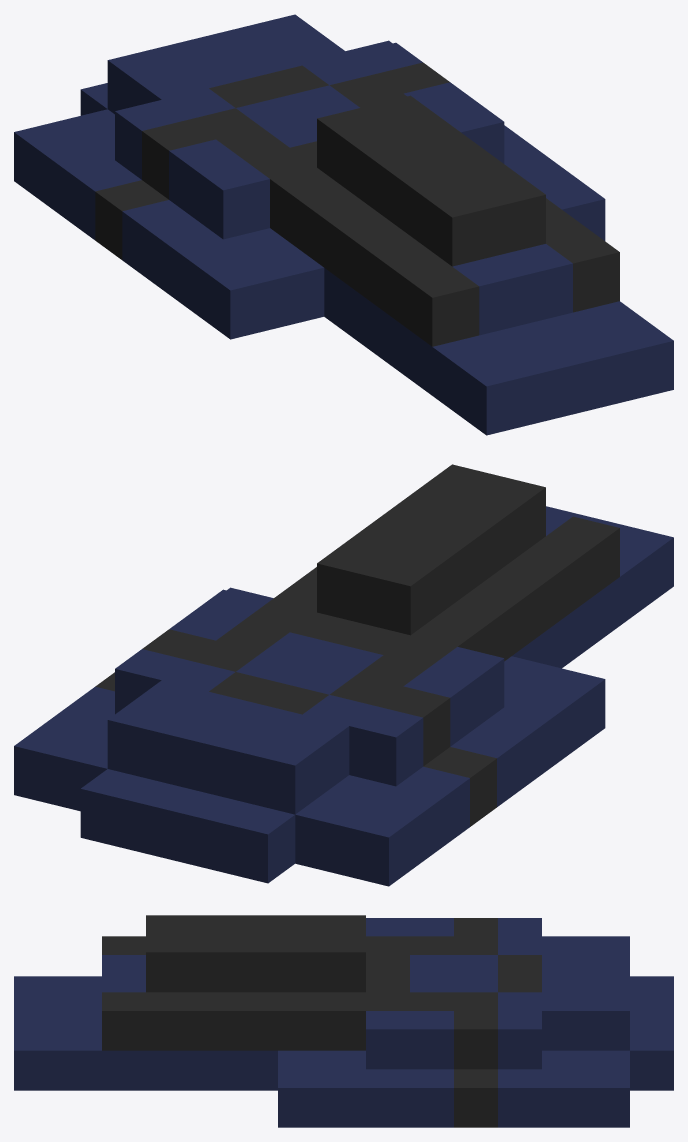
Rendered from Extra-14-RedFighter_CockpitGlass.obj.
The picture shows the model from 3 angles, top to bottom: view 1: azimuth 30°, elevation 25°; view 2: azimuth 150°, elevation 25°; view 3: azimuth 270°, elevation 25°; orthographic projection. The views are drawn at different scales.
Visible parts, largest first — view 1: RedFighter_CockpitGlass; view 2: RedFighter_CockpitGlass; view 3: RedFighter_CockpitGlass.
Part boxes in pixels (box(x1,y1,x2,y2)): RedFighter_CockpitGlass: box(14, 14, 673, 435); RedFighter_CockpitGlass: box(14, 464, 673, 886); RedFighter_CockpitGlass: box(14, 915, 673, 1127).
Bounding box in the file's own units: 0.8 × 0.3 × 1.5.
Materials: 1 (1 with a texture image).
